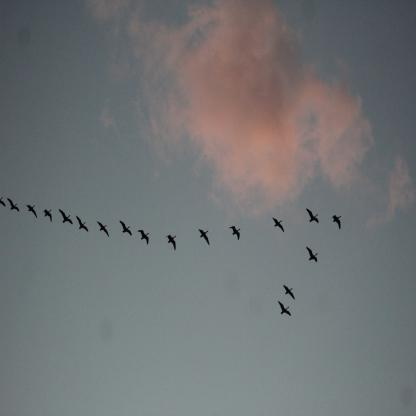bird: (282, 284, 297, 302), (304, 246, 318, 265), (59, 210, 74, 227), (76, 216, 90, 233), (97, 220, 110, 238), (198, 229, 211, 247), (165, 234, 178, 252), (306, 208, 320, 224), (228, 224, 242, 240), (25, 202, 39, 217), (278, 301, 292, 316), (120, 221, 133, 237), (330, 214, 342, 231), (138, 228, 150, 245), (7, 198, 19, 213), (274, 219, 286, 233), (42, 208, 53, 222)
